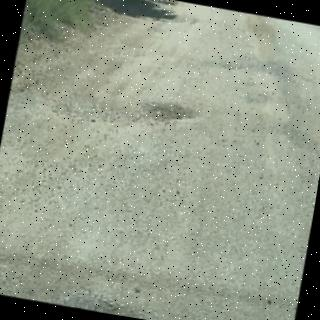pothole: (52, 95, 197, 125), (209, 62, 248, 72)
